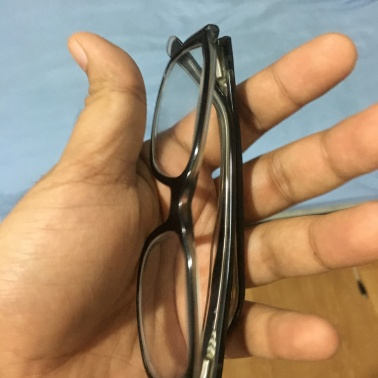glasses: (129, 33, 258, 376)
